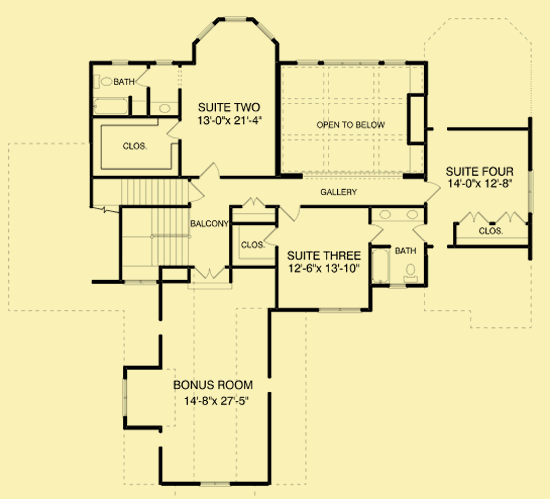bathroom with tub, his and her sink and large sink and large closet: (369, 206, 429, 291)
bathroom with tub, small and large sink and large closet: (87, 56, 184, 176)
these are stairs to the other floors: (92, 177, 202, 282)
this bedroom has his and her closets: (424, 125, 531, 251)
this is an extra room: (121, 290, 269, 487)
this portion is open to below: (278, 57, 425, 180)
